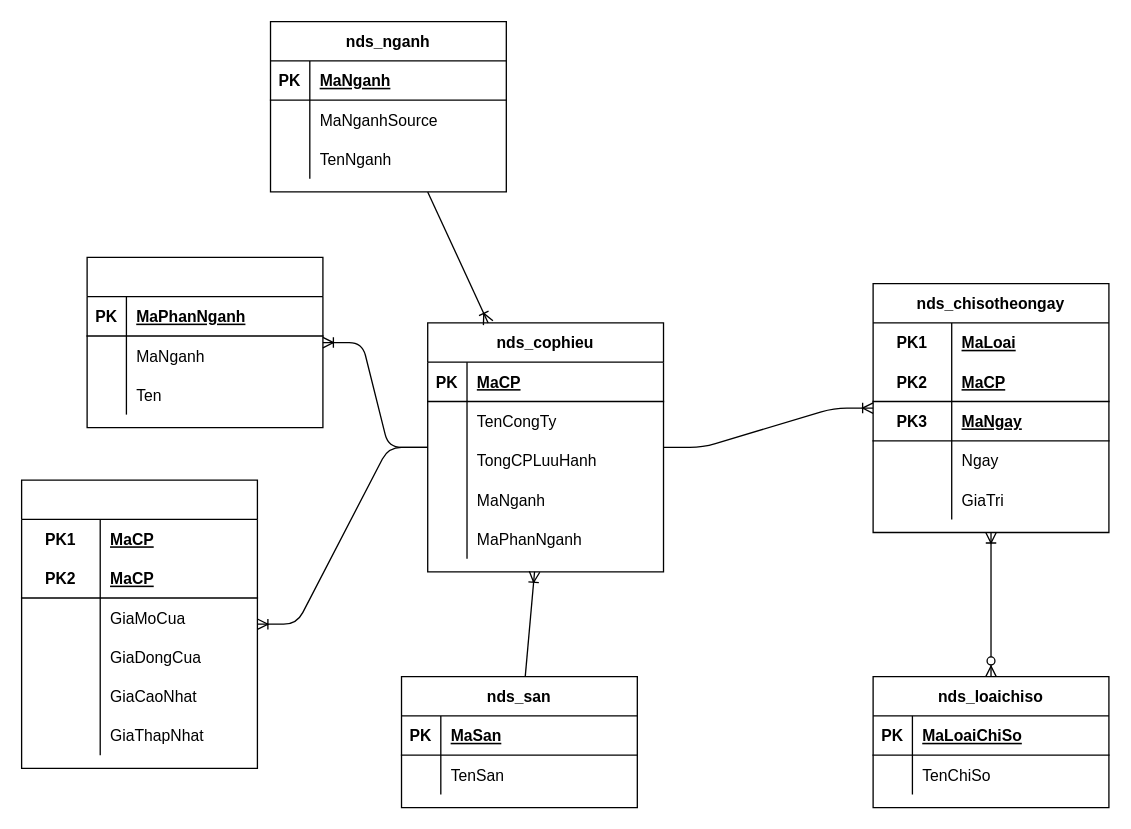
This 1131x829 diagram has some shape labels left out. The box of each missing label's shape, as (x1, y1, x2, y2) in pixels:
nds_lichsugia: (20, 479, 257, 768)
nds_phannganh: (86, 256, 323, 428)
